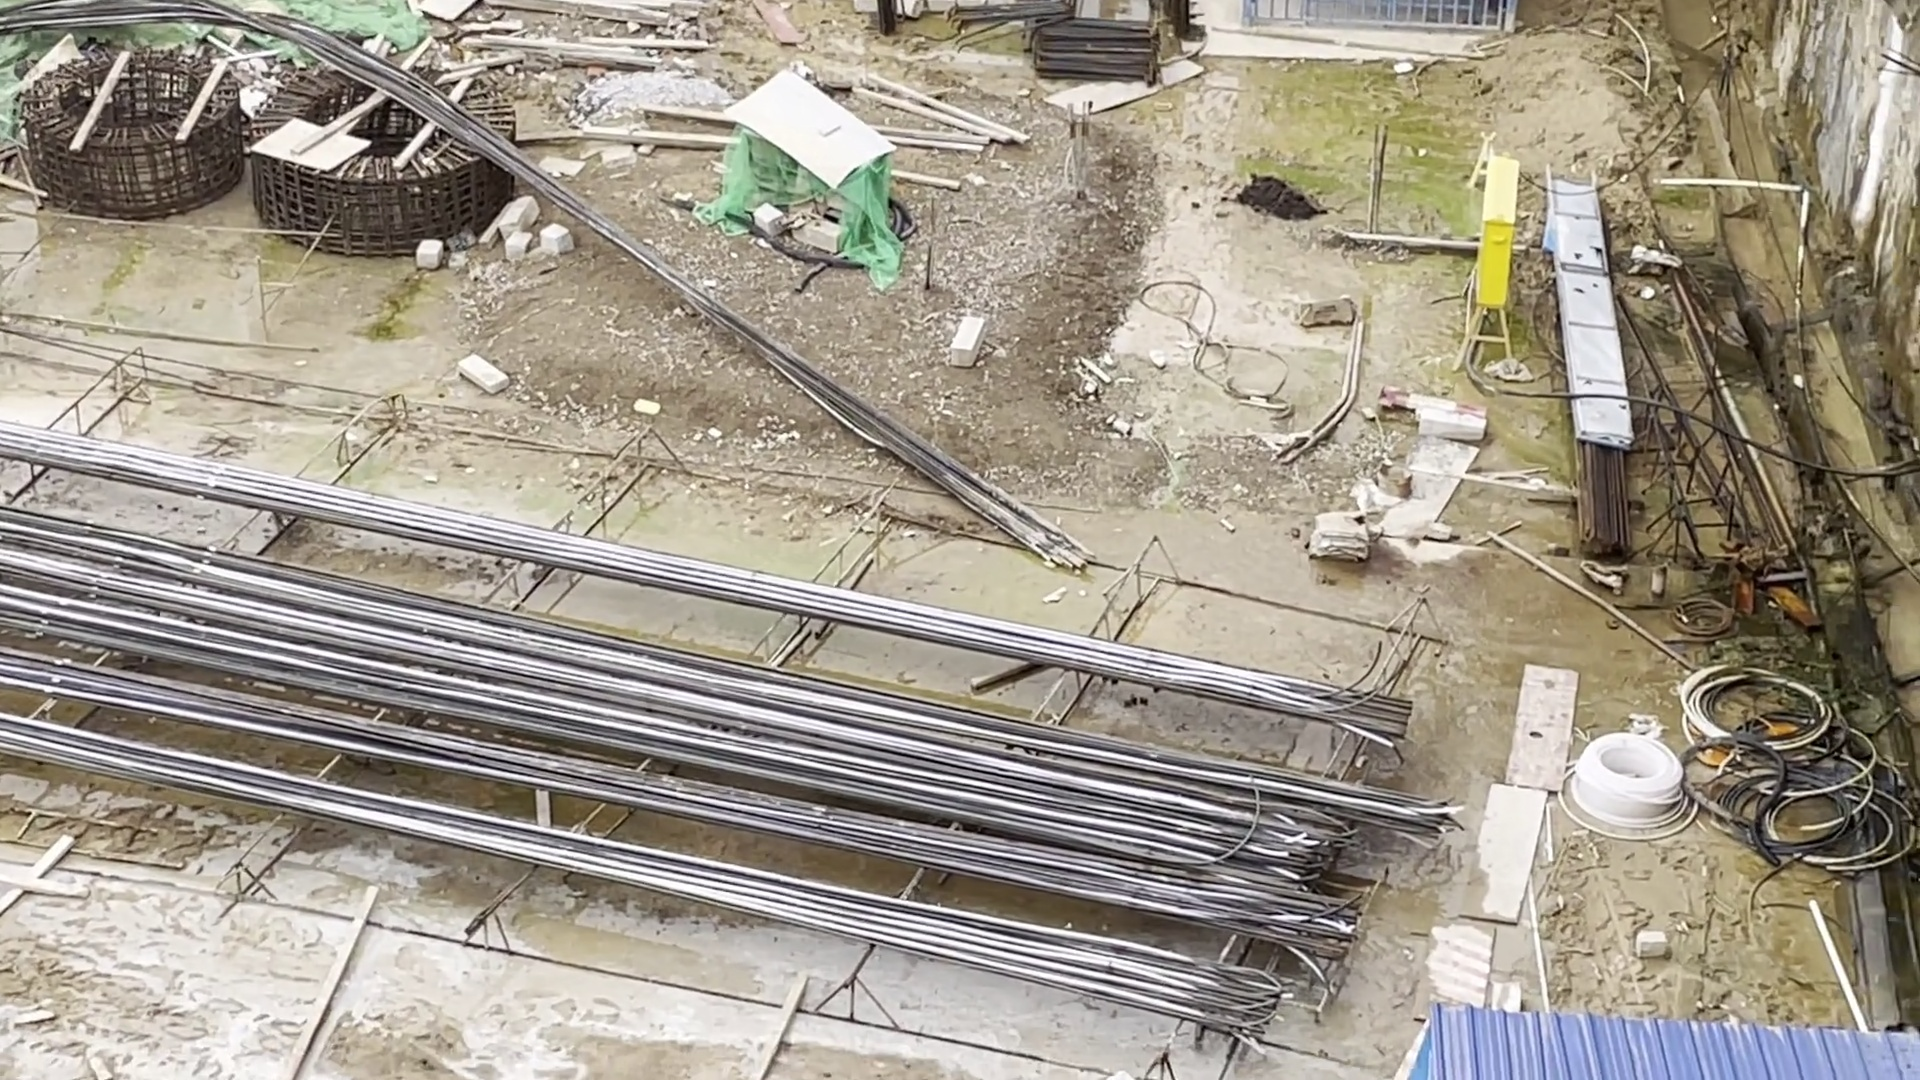ebox: (1466, 158, 1524, 372)
rebar: (1, 467, 1287, 1005)
